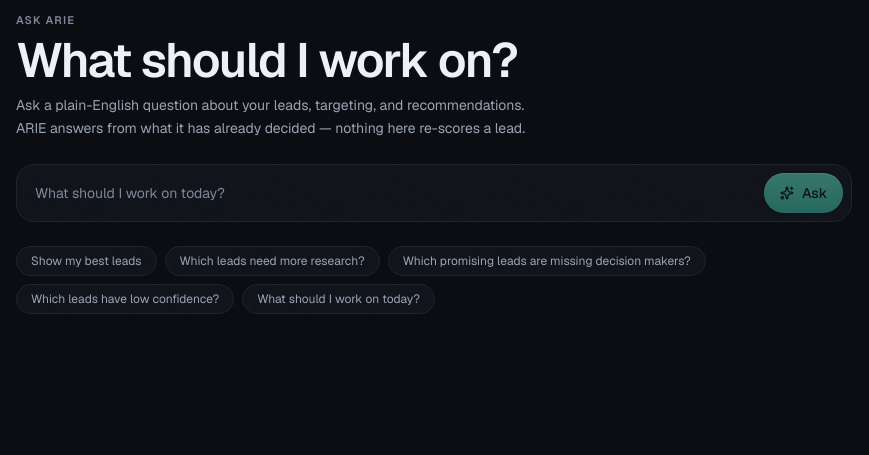
Test: AskArieView › submits a suggested prompt directly
Click the button "What should I work on today?" at (338, 299), box [242,284,435,314]
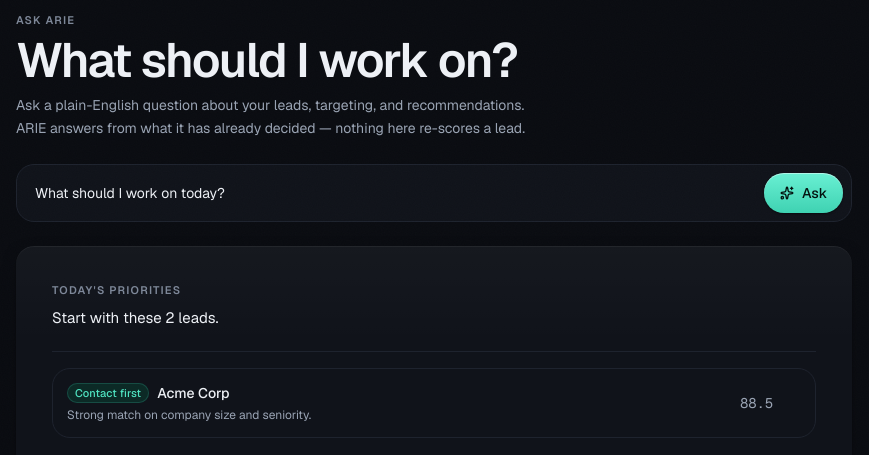
Now the text "Start with these 2 leads." is shown, box [52,308,218,327]
